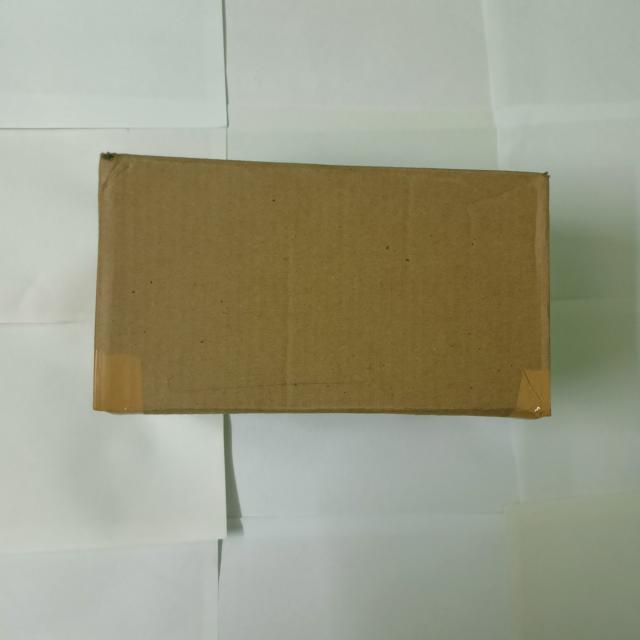box: (92, 155, 553, 423)
